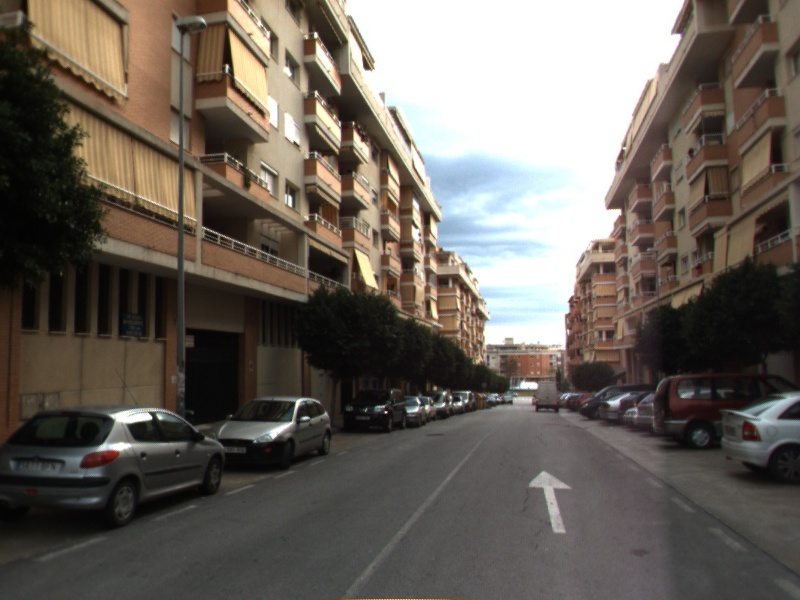STRAIGHT: (524, 468, 575, 535)
